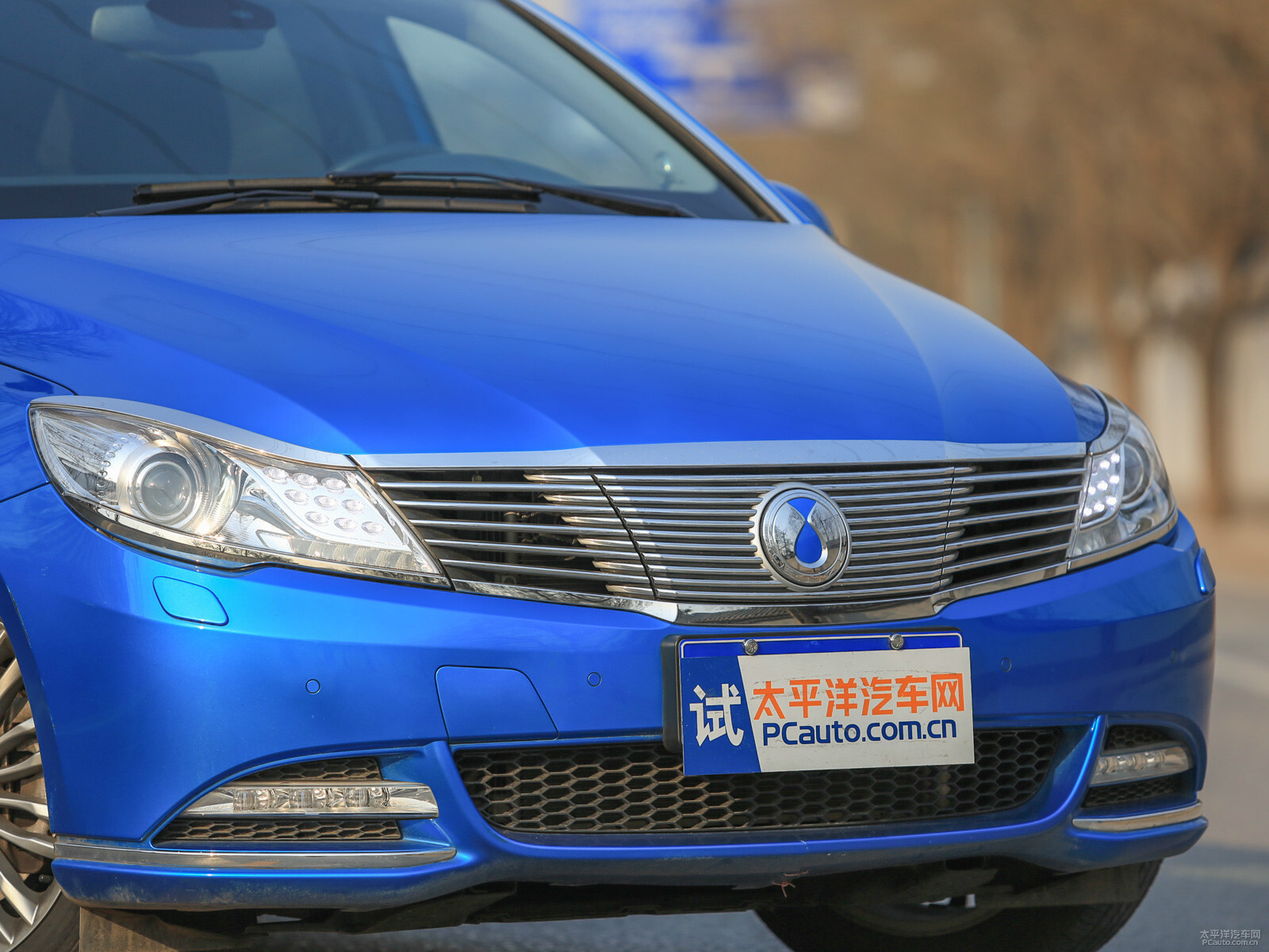DENZA: (763, 489, 847, 583)
